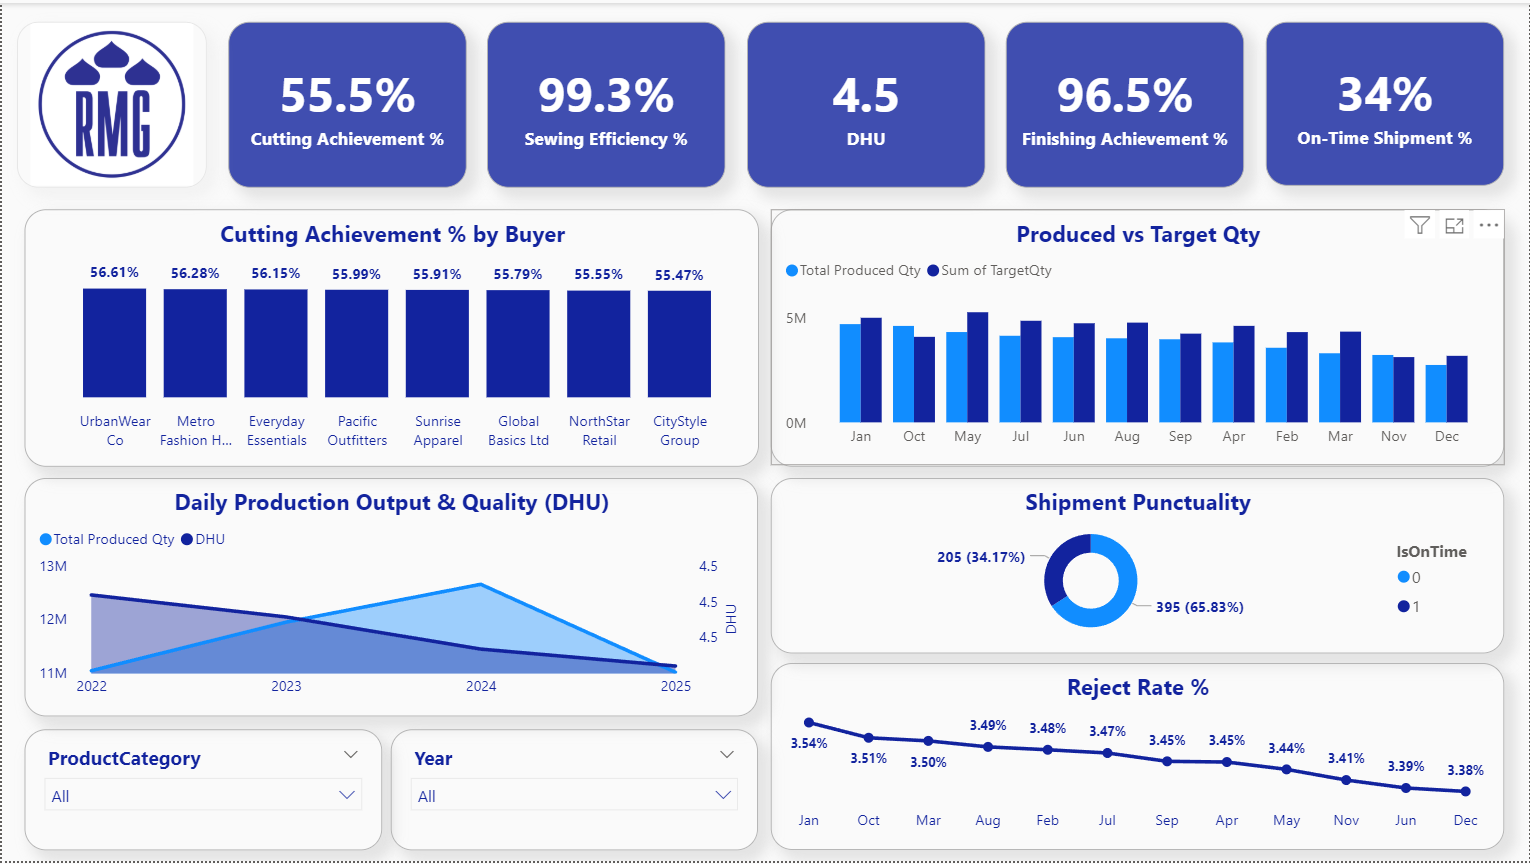

Layout of this report page (visuals, bound fields, positions):
{"tool":"powerbi","page":{"name":"Garments (GMS) Dashboard","canvas":[1280,720],"ordinal":1},"visuals":[{"type":"card","fields":{"Values":["All Measures Garments.Cutting Achievement %"]},"box":[189.3,15.6,200.1,139.1],"z":0},{"type":"card","fields":{"Values":["All Measures Garments.Sewing Efficiency %"]},"box":[406.8,15.6,200.1,139],"z":1000},{"type":"card","fields":{"Values":["All Measures Garments.DHU"]},"box":[624.4,15.6,200.1,139],"z":2000},{"type":"card","fields":{"Values":["All Measures Garments.Finishing Achievement %"]},"box":[841.9,15.6,200.1,139],"z":3000},{"type":"card","fields":{"Values":["All Measures Garments.On-Time Shipment %"]},"box":[1059.5,15.6,200.1,137.8],"z":4000},{"type":"image","box":[12.4,15.6,159.4,139.1],"z":5000},{"type":"clusteredColumnChart","title":"Cutting Achievement % by Buyer","fields":{"Category":["dim_buyer.BuyerName"],"Y":["All Measures Garments.Cutting Achievement %"]},"box":[18.9,173,616,215.7],"z":6000},{"type":"clusteredColumnChart","title":"Produced vs Target Qty","fields":{"Category":["dim_date.MonthName"],"Y":["Other Measures.Total Produced Qty","Sum(fact_production_daily.TargetQty)"]},"box":[644.8,172.6,614.8,215.7],"z":7000},{"type":"donutChart","title":"Shipment Punctuality","fields":{"Category":["fact_shipment.IsOnTime"],"Y":["Other Measures.Total Shipments"]},"box":[644.8,397.9,614.8,147.4],"z":8000},{"type":"areaChart","title":"Daily Production Output & Quality (DHU)","fields":{"Category":["dim_date.Date Hierarchy.Year","dim_date.Date Hierarchy.Month"],"Y":["Other Measures.Total Produced Qty"],"Y2":["All Measures Garments.DHU"]},"box":[19.4,397.9,615,200],"z":9000},{"type":"lineChart","title":"Reject Rate %","fields":{"Category":["dim_date.MonthName"],"Y":["Other Measures.Reject Rate %"]},"box":[644.8,553.7,614.8,157],"z":10000},{"type":"slicer","fields":{"Values":["dim_style.ProductCategory"]},"box":[19.2,608.8,299.6,101.9],"z":11000},{"type":"slicer","fields":{"Values":["dim_date.Year"]},"box":[326,608.8,308,101.9],"z":12000}]}

Visuals, with their boxes in screenshot pixels (x1, y1, x2, y2), scaled from the page's 1280x720 canvas onto the 1530x864 screenshot:
card - All Measures Garments.Cutting Achievement %: {"left": 226, "top": 19, "right": 465, "bottom": 186}
card - All Measures Garments.Sewing Efficiency %: {"left": 486, "top": 19, "right": 725, "bottom": 186}
card - All Measures Garments.DHU: {"left": 746, "top": 19, "right": 986, "bottom": 186}
card - All Measures Garments.Finishing Achievement %: {"left": 1006, "top": 19, "right": 1246, "bottom": 186}
card - All Measures Garments.On-Time Shipment %: {"left": 1266, "top": 19, "right": 1506, "bottom": 184}
image: {"left": 15, "top": 19, "right": 205, "bottom": 186}
"Cutting Achievement % by Buyer" clusteredColumnChart: {"left": 23, "top": 208, "right": 759, "bottom": 466}
"Produced vs Target Qty" clusteredColumnChart: {"left": 771, "top": 207, "right": 1506, "bottom": 466}
"Shipment Punctuality" donutChart: {"left": 771, "top": 477, "right": 1506, "bottom": 654}
"Daily Production Output & Quality (DHU)" areaChart: {"left": 23, "top": 477, "right": 758, "bottom": 717}
"Reject Rate %" lineChart: {"left": 771, "top": 664, "right": 1506, "bottom": 853}
slicer - dim_style.ProductCategory: {"left": 23, "top": 731, "right": 381, "bottom": 853}
slicer - dim_date.Year: {"left": 390, "top": 731, "right": 758, "bottom": 853}
